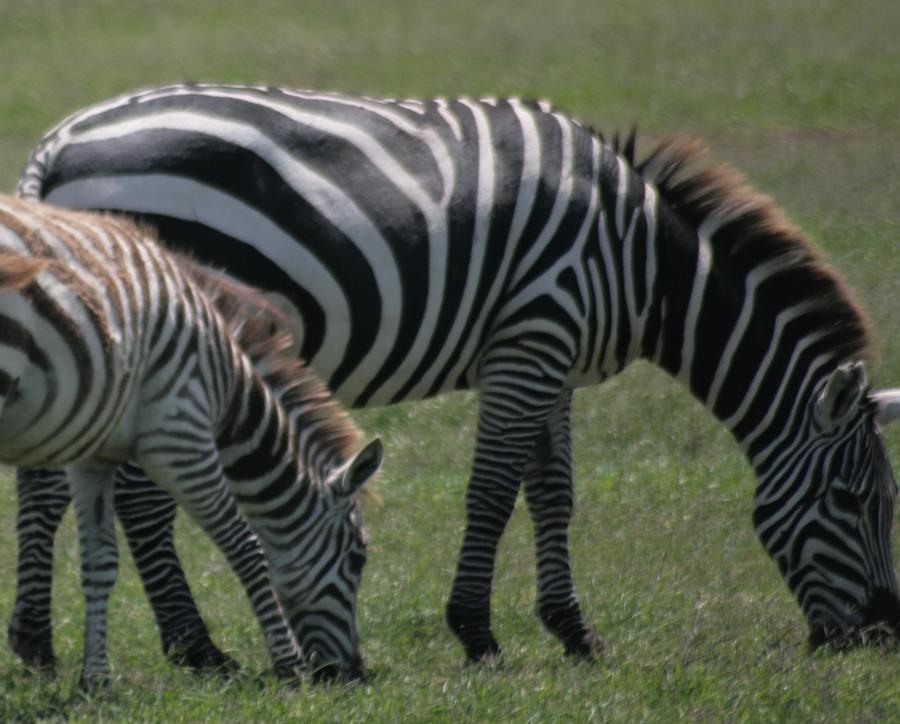zebra_plains: (252, 74, 615, 409)
